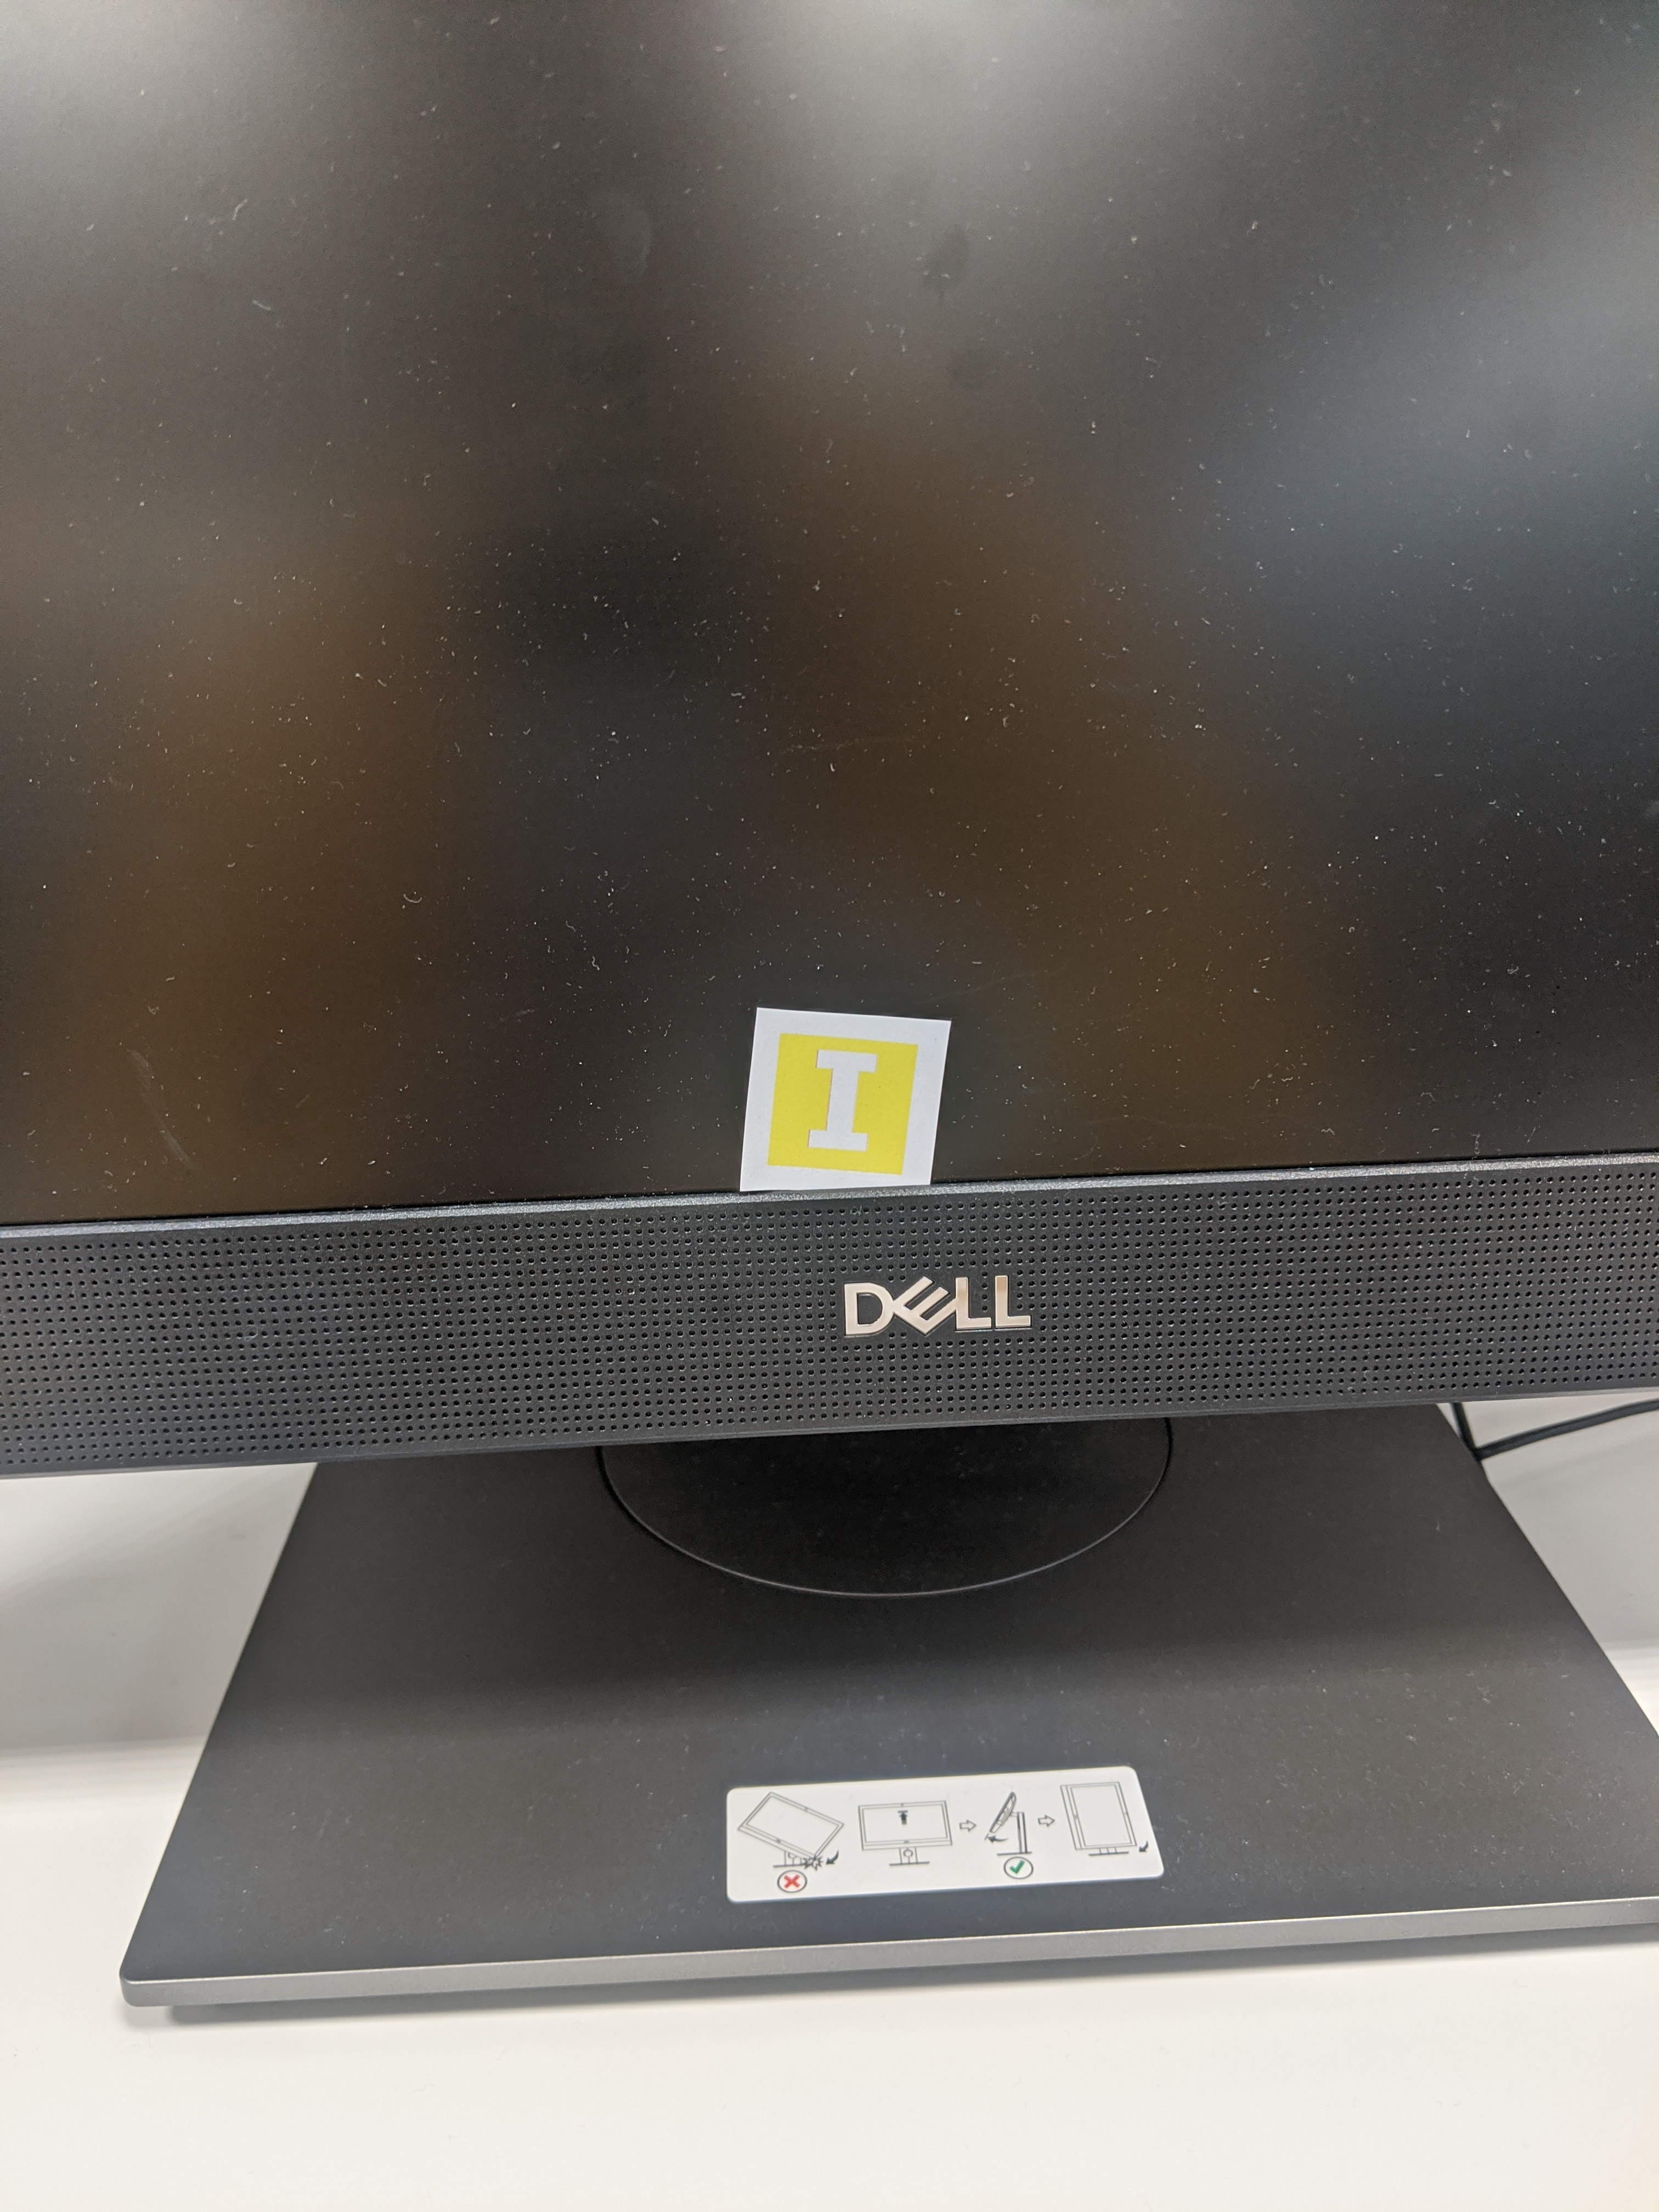yellow marker: (739, 996, 974, 1202)
